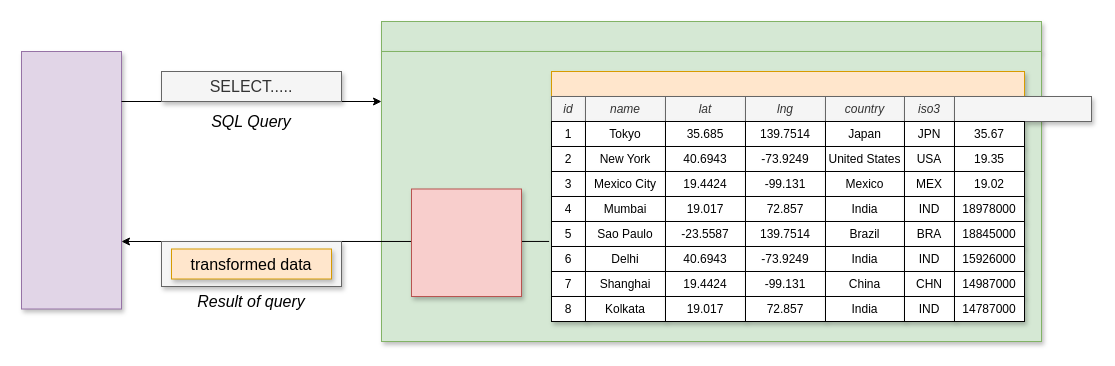
The diagram is 1115 pixels wide and 366 high, and some of its shapes have lost their labels. The shapes that lost their labels are listed below. From the top down, each one's centre as x and y in pixels, then its label:
At (712,37): "Database".
At (788,85): "cities".
At (1024,110): "population_in_millions".
At (72,181): "Client".
At (467,244): "Data Transform Step".
